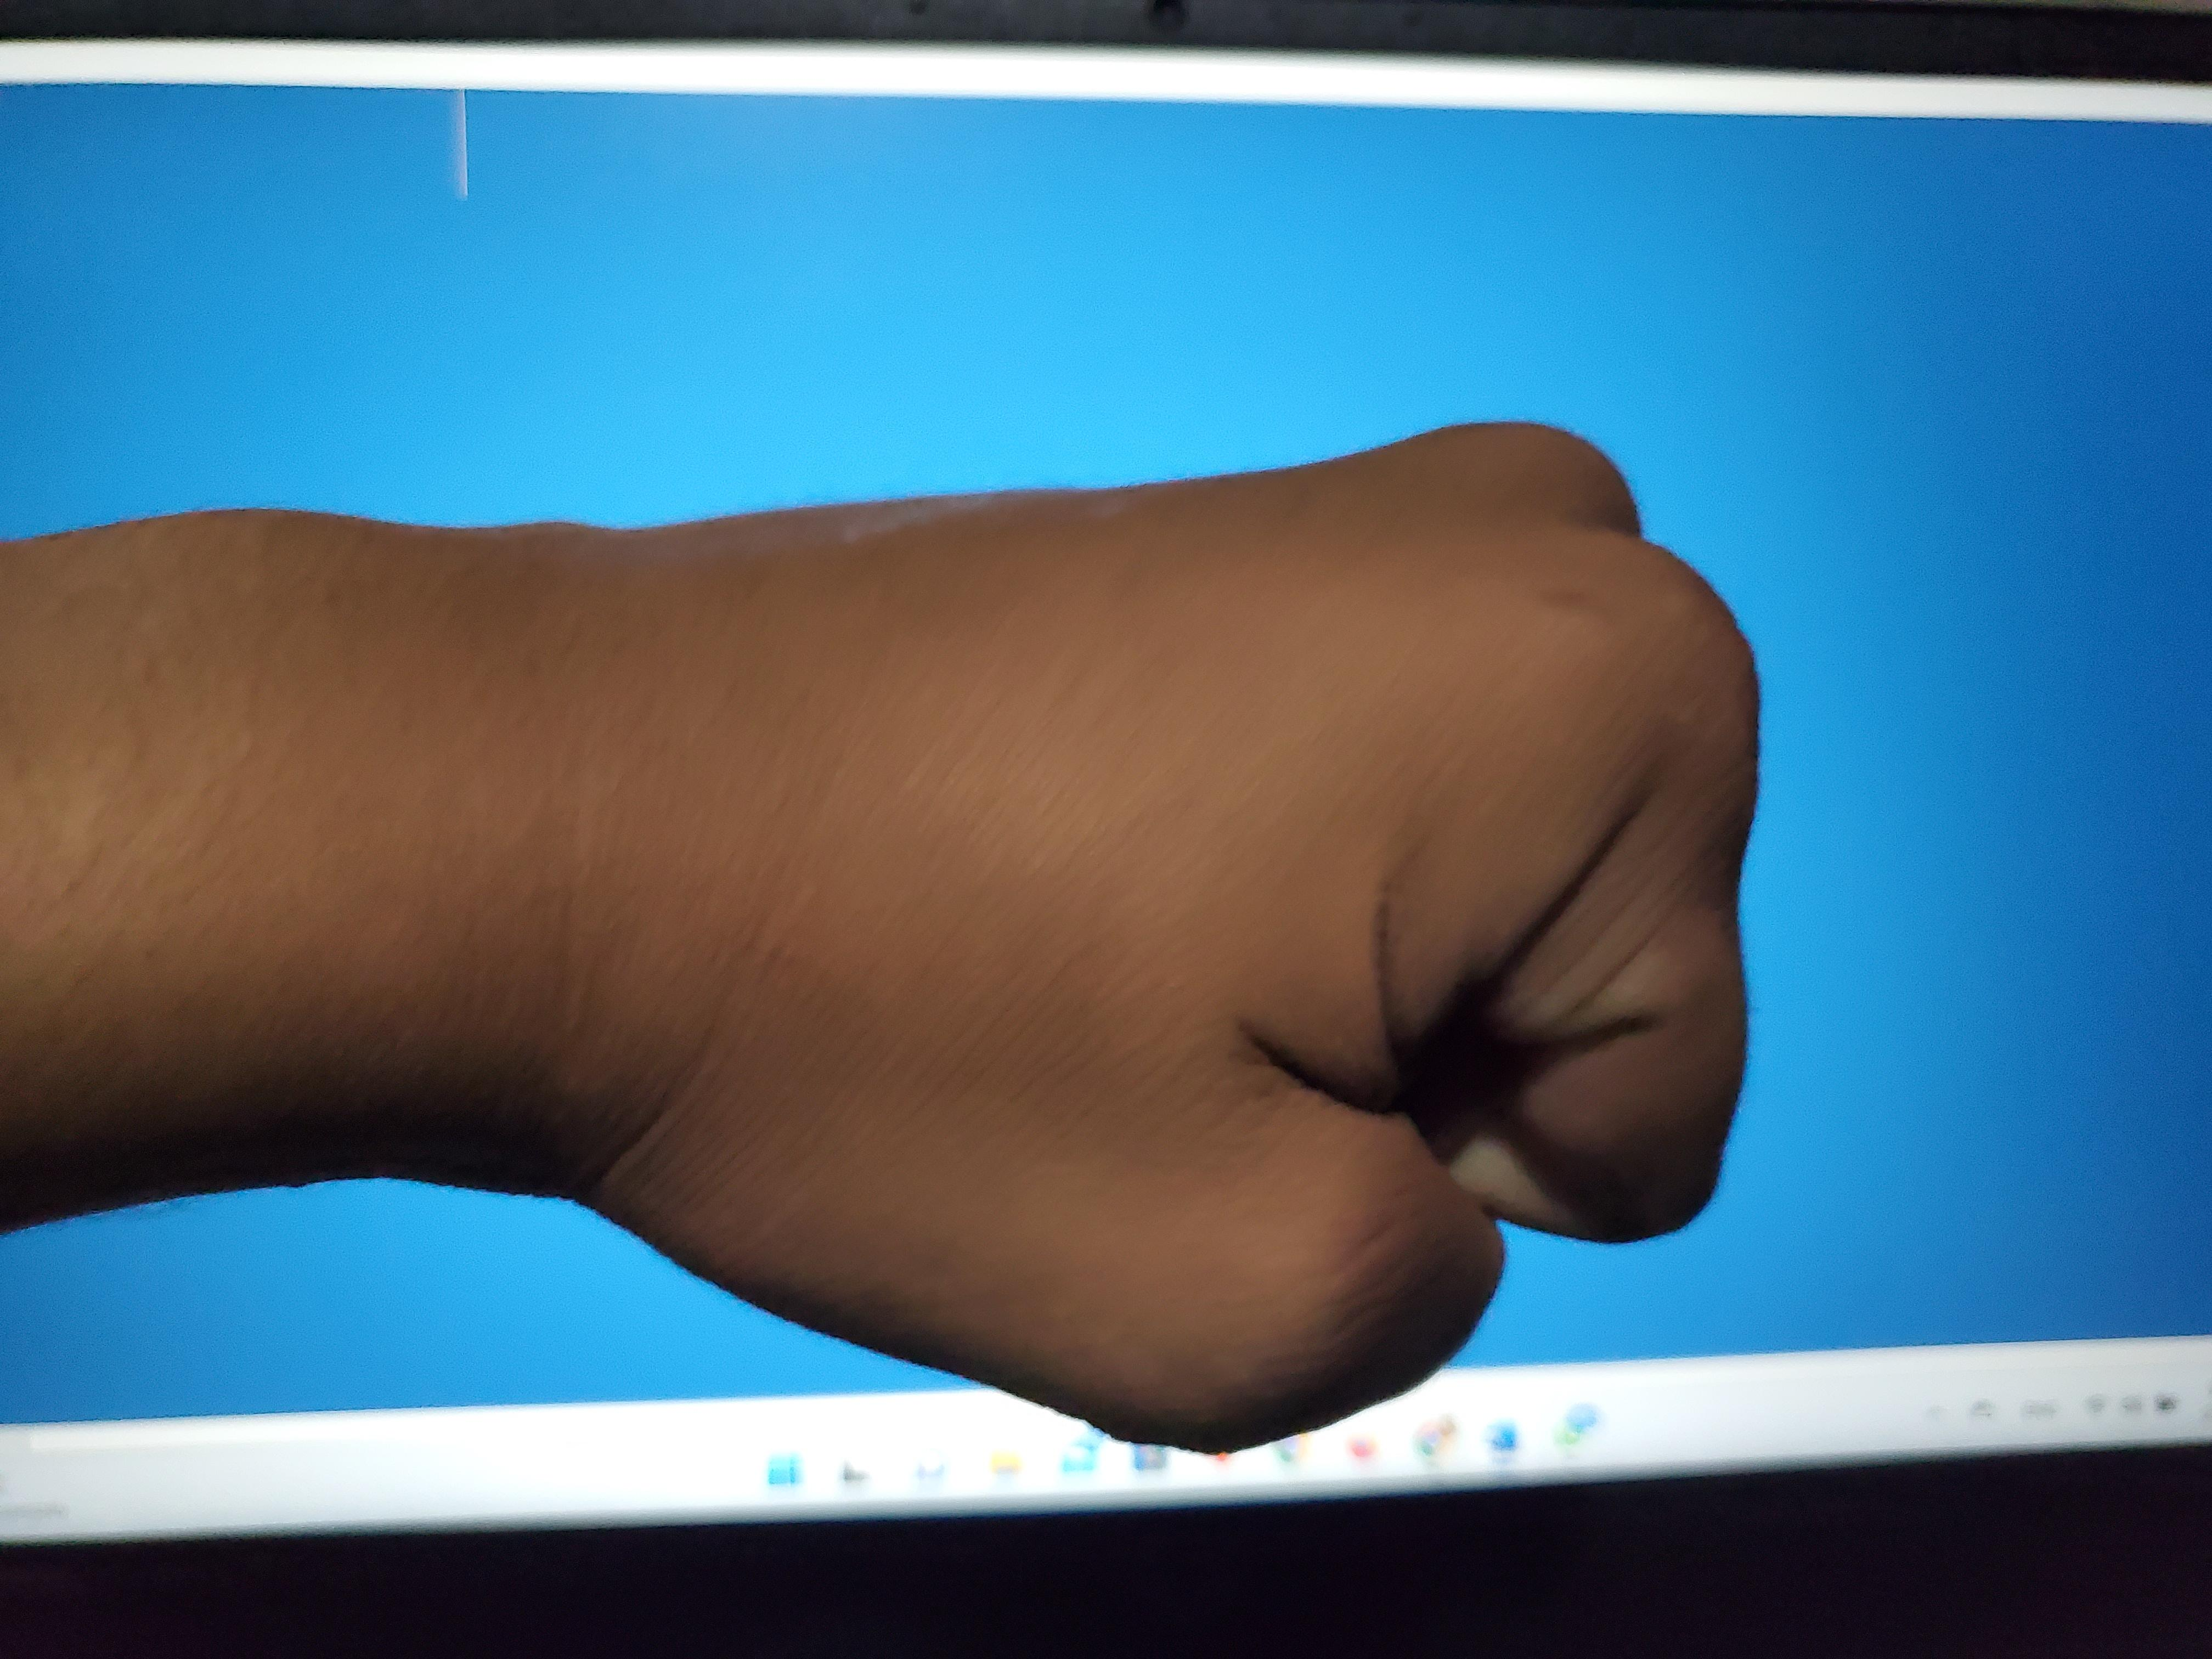Stone: (374, 94, 2163, 1570)
